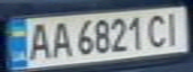1: (127, 12, 148, 51)
2: (109, 15, 130, 53)
6: (72, 17, 96, 56)
8: (90, 16, 112, 55)
A: (21, 20, 54, 62), (45, 18, 72, 60)
C: (145, 11, 172, 48)
I: (160, 9, 187, 46)
